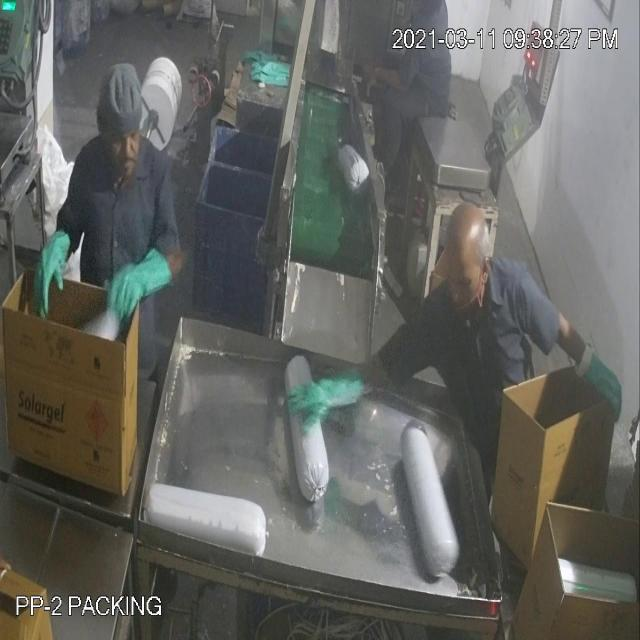Gloves: (39, 44, 595, 398)
